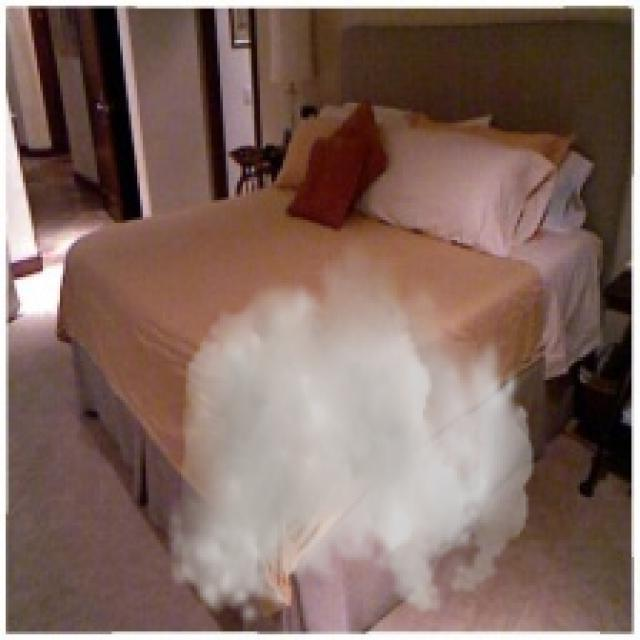Smoke: (166, 232, 534, 628)
